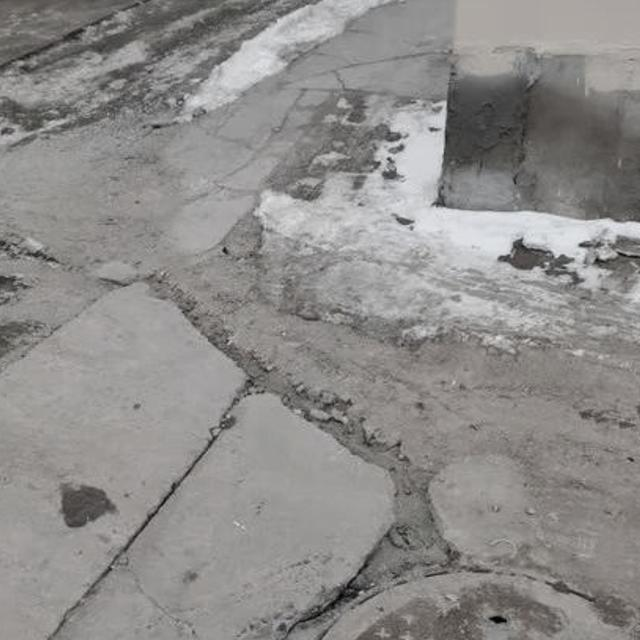circle: (150, 538, 640, 640)
